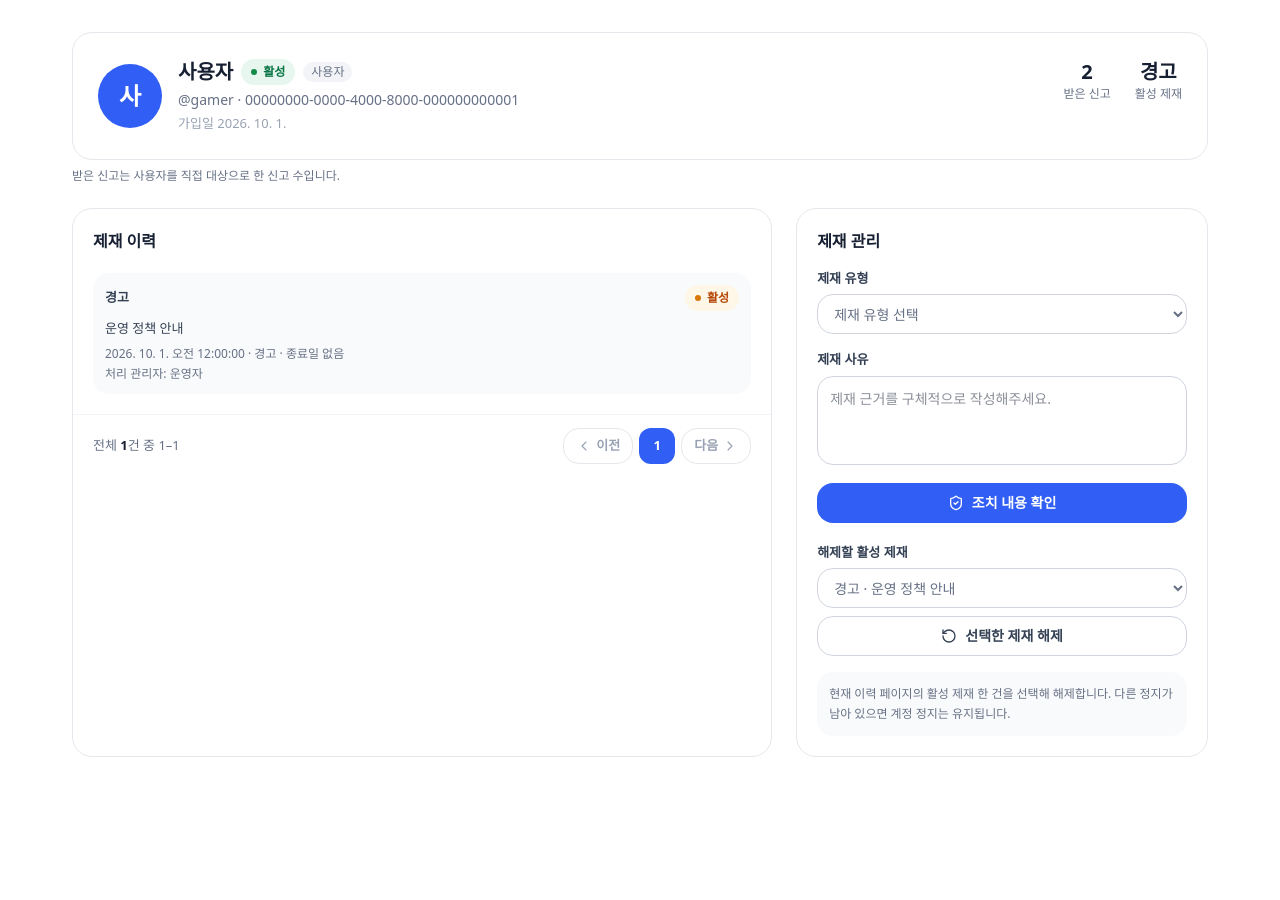
Test case: 관리자 사용자 상세 실제 제재 흐름 › 해제 실패 시 계정과 활성 제재를 변경하지 않는다
Click the button "선택한 제재 해제" at (1002, 636), box [817, 616, 1187, 656]
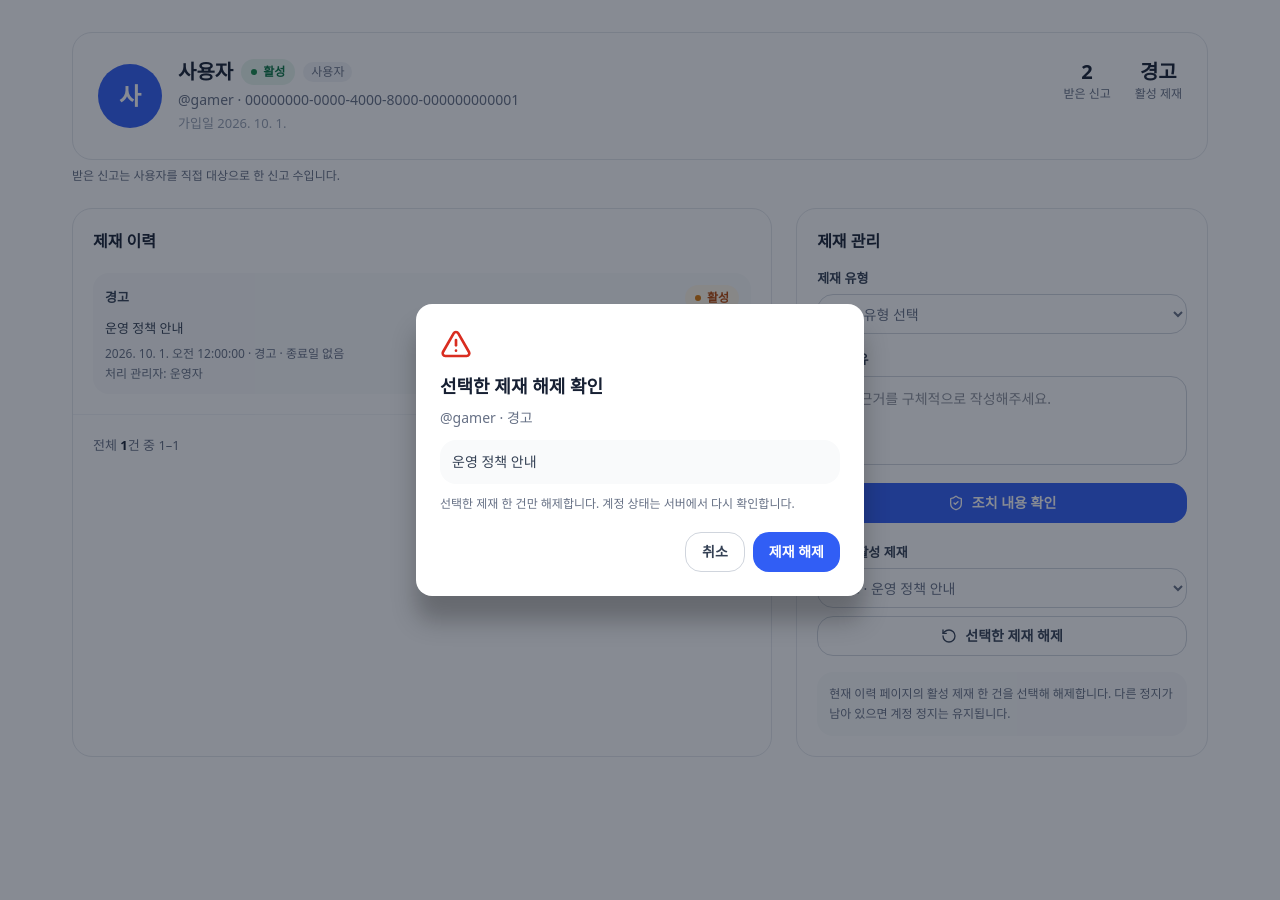
Click the button "제재 해제" at (796, 552), box [753, 532, 840, 572]
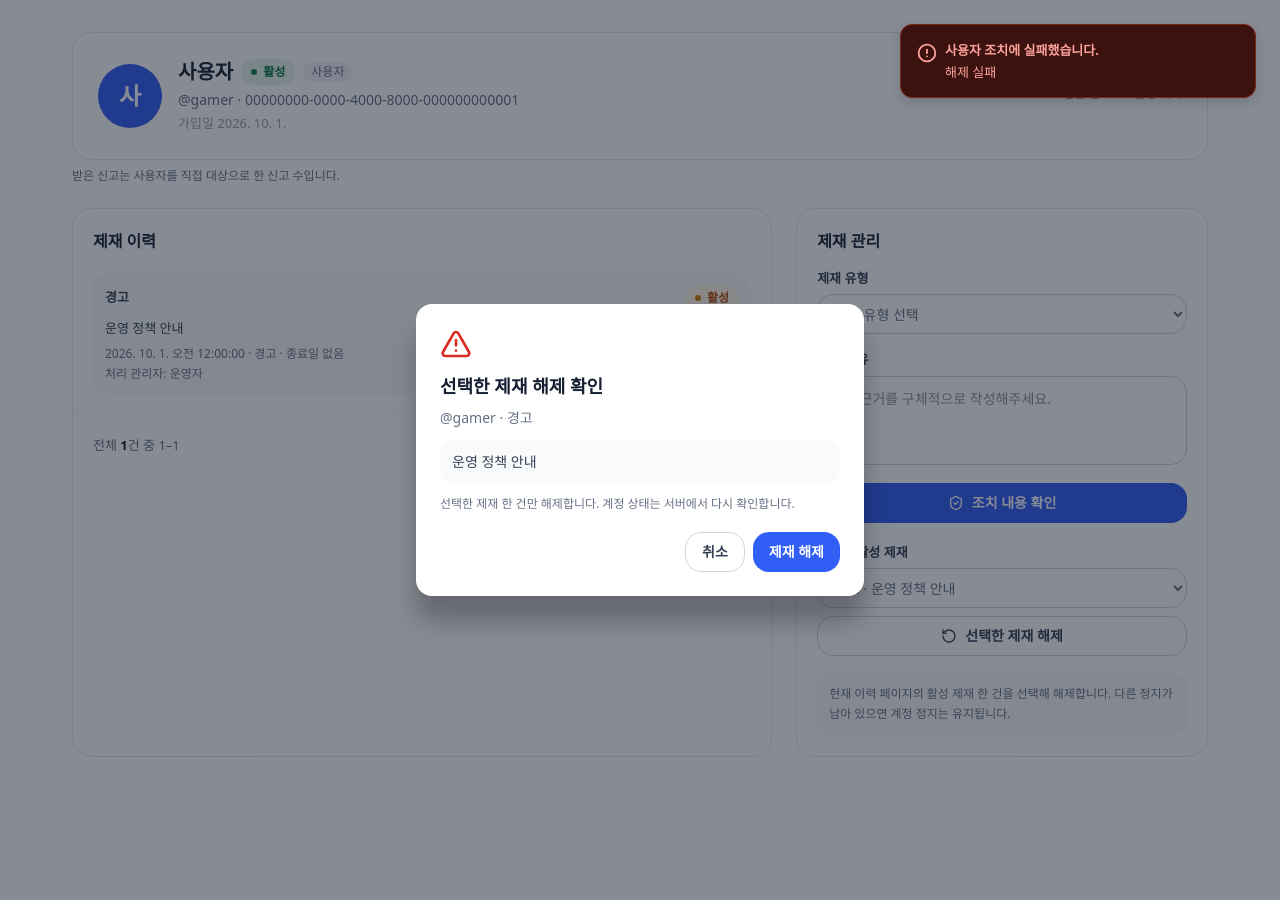
Expected: the dropdown labelled "해제할 활성 제재" shows "경고 · 운영 정책 안내", [817, 568, 1187, 608]
Now the text "해제 실패" is shown, box [945, 62, 996, 80]
